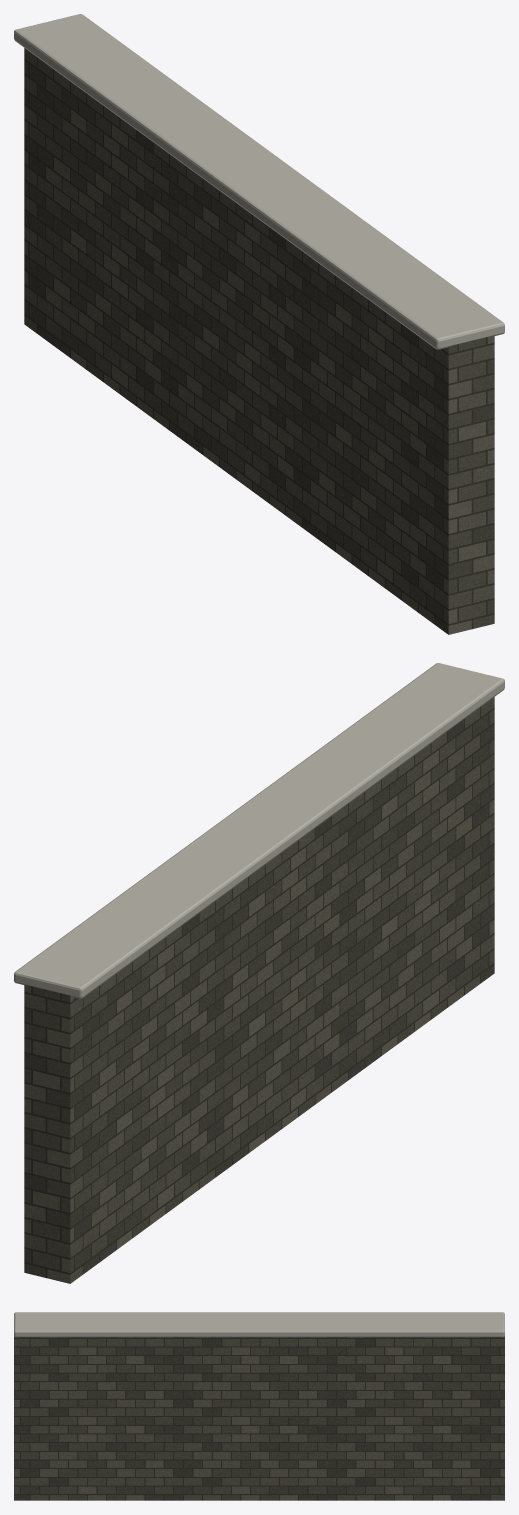
File: quay-section.glb
The picture shows the model from 3 angles, top to bottom: view 1: azimuth 30°, elevation 25°; view 2: azimuth 150°, elevation 25°; view 3: azimuth 270°, elevation 25°; orthographic projection. The views are drawn at different scales.
Parts seen in each view (by area): view 1: quay retaining wall, quay coping; view 2: quay retaining wall, quay coping; view 3: quay retaining wall, quay coping.
Part boxes in pixels (x1,y1,x2,y2): quay retaining wall: [24, 48, 494, 634]; quay coping: [14, 14, 504, 349]; quay retaining wall: [24, 697, 494, 1283]; quay coping: [14, 663, 504, 998]; quay retaining wall: [14, 1336, 504, 1500]; quay coping: [14, 1312, 504, 1337].
Bounding box in the file's own units: 0.75 × 3.1 × 8.
2 materials, 1 textured.
